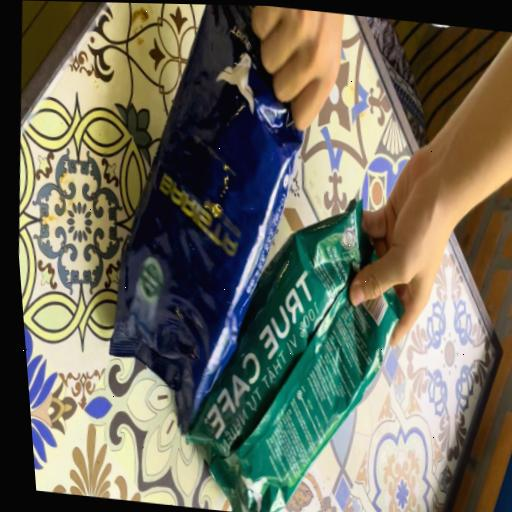cafe_hat: (109, 5, 301, 427)
cafe_xay: (186, 204, 402, 512)
